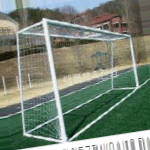goals: (15, 15, 140, 140)
